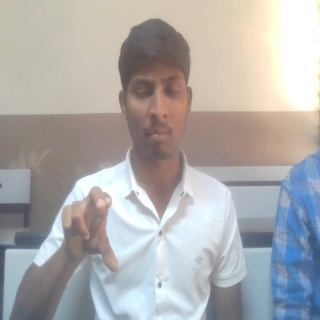Face: (117, 17, 194, 166)
No: (59, 183, 121, 275)
